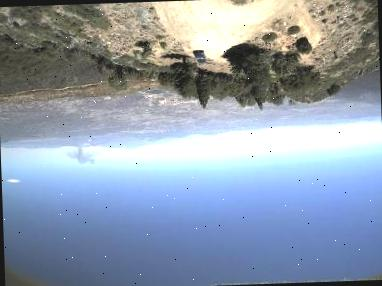smoke: (63, 136, 102, 169)
